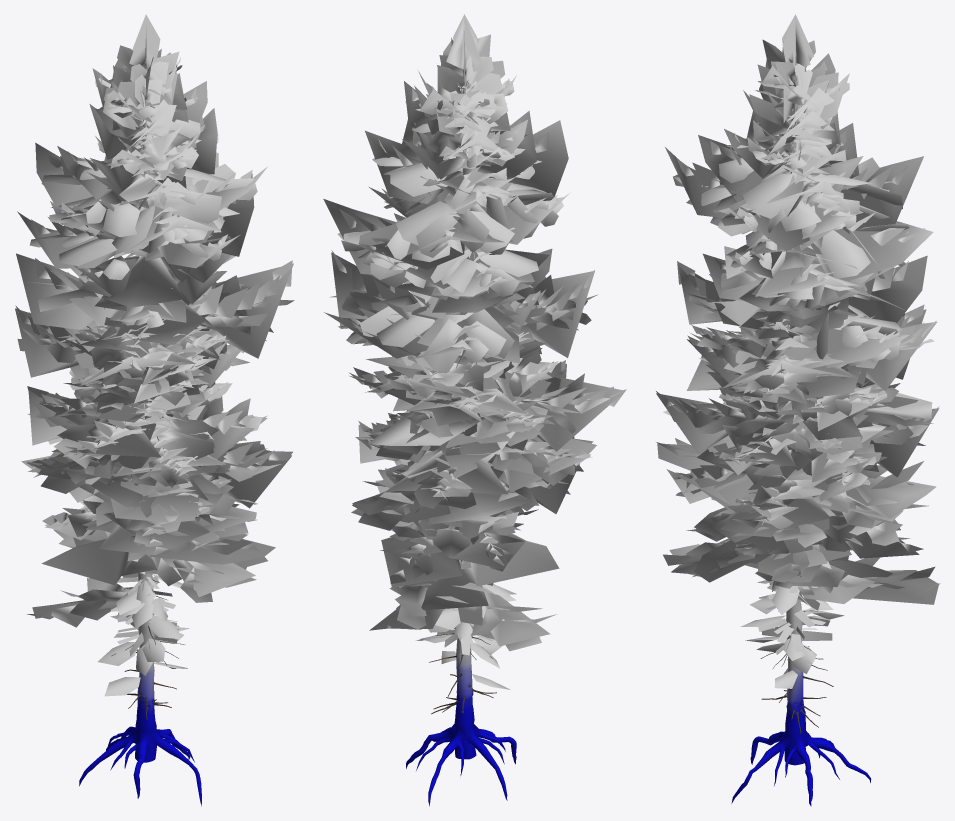
File: Tree2_LOD0.fbx
The picture shows the model from 3 angles, left to right: view 1: azimuth 30°, elevation 25°; view 2: azimuth 150°, elevation 25°; view 3: azimuth 270°, elevation 25°; orthographic projection.
Visible parts, largest first — view 1: polySurface1600; view 2: polySurface1600; view 3: polySurface1600.
Part boxes in pixels (x1,y1,x2,y2): polySurface1600: [15, 14, 294, 806]; polySurface1600: [323, 14, 626, 806]; polySurface1600: [656, 14, 940, 806].
Bounding box in the file's own units: 730 × 2044 × 678.
